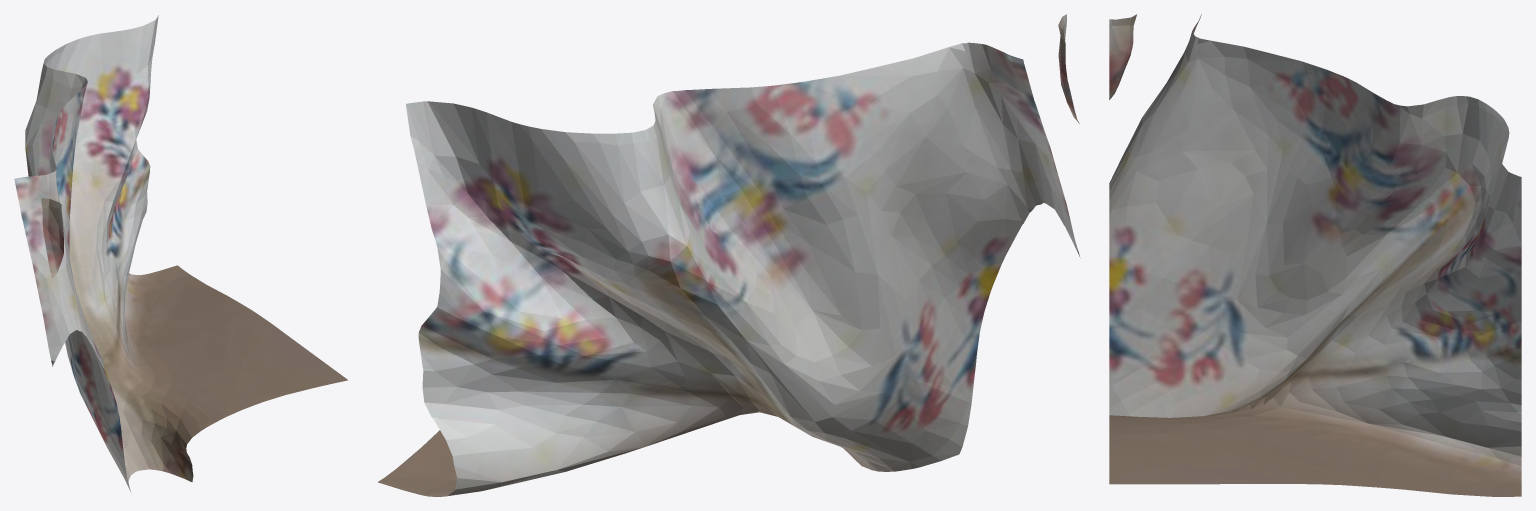
The picture shows the model from 3 angles, left to right: view 1: azimuth 30°, elevation 25°; view 2: azimuth 150°, elevation 25°; view 3: azimuth 270°, elevation 25°; orthographic projection. The views are drawn at different scales.
Parts seen in each view (by area): view 1: 091_W_Aya_100K_01; view 2: 091_W_Aya_100K_01; view 3: 091_W_Aya_100K_01.
Part boxes in pixels (x1,y1,x2,y2): 091_W_Aya_100K_01: (14,15,347,491); 091_W_Aya_100K_01: (378,14,1080,496); 091_W_Aya_100K_01: (1109,14,1521,496).
Size of the model in its own units: 85.74 by 85.74 by 85.74.
1 material, 1 textured.
